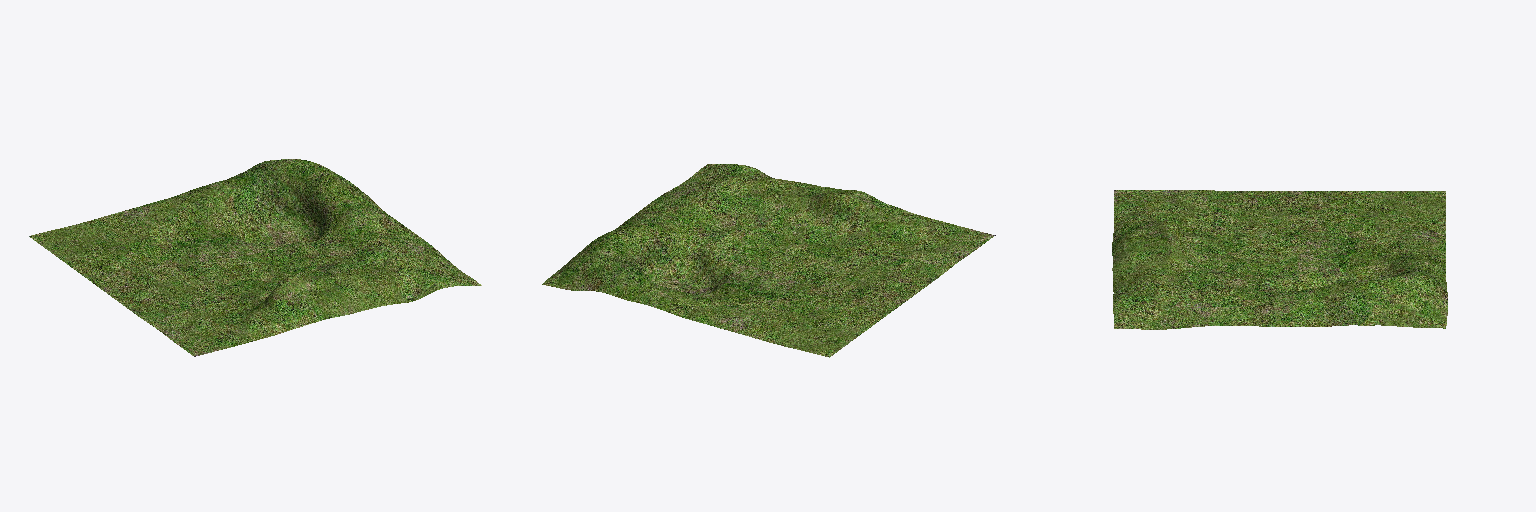
3 views of the same model, side by side, from view 1: azimuth 30°, elevation 25°; view 2: azimuth 150°, elevation 25°; view 3: azimuth 270°, elevation 25° (orthographic).
Visible parts, largest first — view 1: Grid_Grid.007; view 2: Grid_Grid.007; view 3: Grid_Grid.007.
Boxes of the visible parts, x1,y1,x2,y2 form: Grid_Grid.007: [29, 159, 481, 356]; Grid_Grid.007: [542, 164, 995, 357]; Grid_Grid.007: [1112, 190, 1447, 329].
Bounding box in the file's own units: 201 × 35.72 × 203.
1 materials, 1 textured.